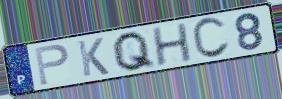8: (234, 11, 267, 52)
C: (190, 16, 232, 61)
H: (150, 21, 195, 68)
K: (75, 36, 111, 79)
P: (33, 43, 71, 88)
Q: (111, 30, 158, 73)
